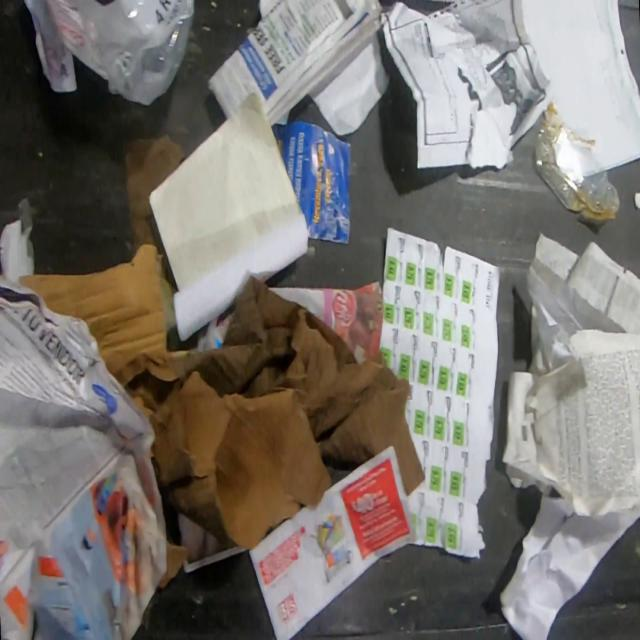cardboard: (16, 243, 179, 364), (157, 538, 190, 591)
rigid_plastic: (534, 99, 622, 227)
soft_plastic: (74, 0, 197, 108), (511, 267, 592, 369)
